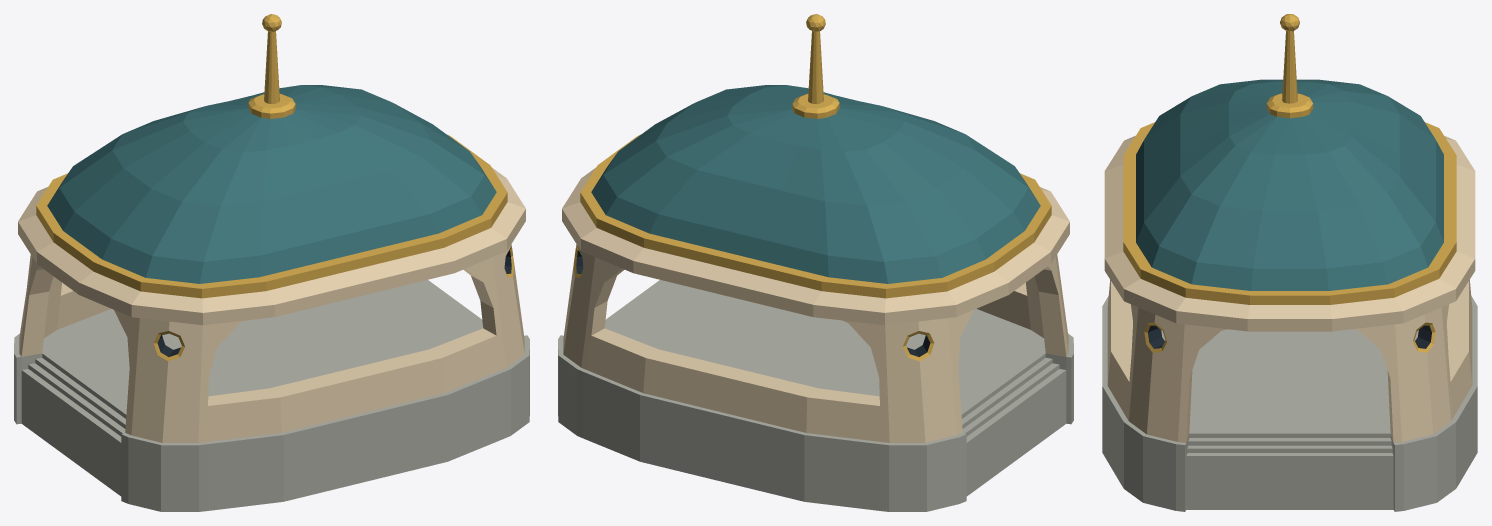
3 renders of one model, left to right at view 1: azimuth 30°, elevation 25°; view 2: azimuth 150°, elevation 25°; view 3: azimuth 270°, elevation 25°, orthographic.
Visible parts, largest first — view 1: commons; view 2: commons; view 3: commons.
Boxes of the visible parts, <box> form: commons: <box>14,14,529,511</box>; commons: <box>558,14,1073,511</box>; commons: <box>1102,14,1477,511</box>.
Bounding box in the file's own units: 12.38 × 11.01 × 9.4.
Materials: 1 (1 with a texture image).
